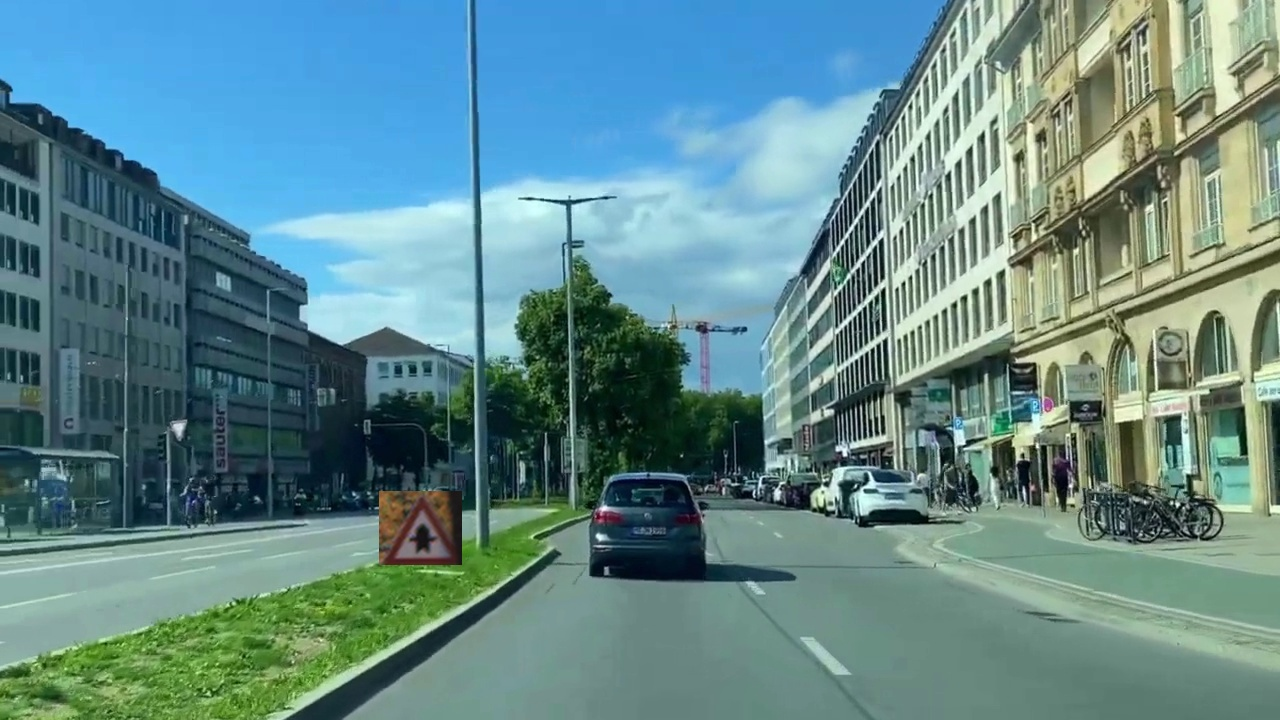Right-of-way: (379, 491, 462, 565)
